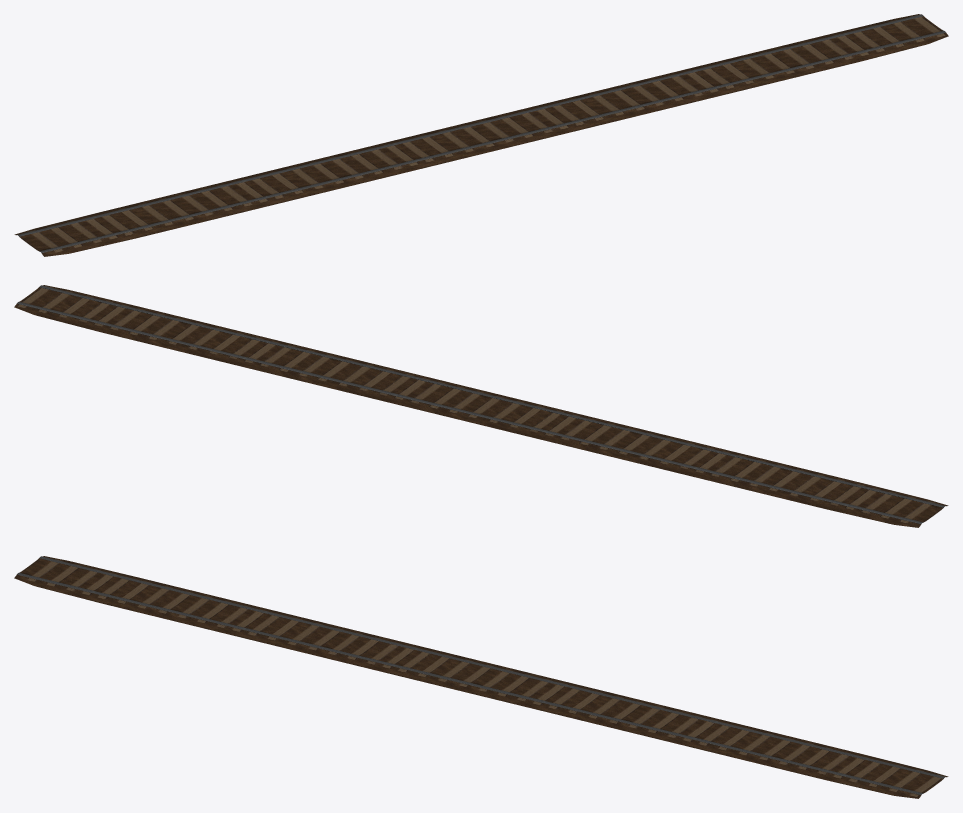
File: Rails.glb
The picture shows the model from 3 angles, top to bottom: view 1: azimuth 30°, elevation 25°; view 2: azimuth 150°, elevation 25°; view 3: azimuth 330°, elevation 25°; orthographic projection.
Visible parts, largest first — view 1: mine_rail.jpg__; view 2: mine_rail.jpg__; view 3: mine_rail.jpg__.
Part boxes in pixels (<box>): mine_rail.jpg__: <box>14,14,948,256</box>; mine_rail.jpg__: <box>14,285,948,527</box>; mine_rail.jpg__: <box>14,556,948,798</box>.
Size of the model in its own units: 68.97 by 0.241 by 4.74.
1 material, 1 textured.
